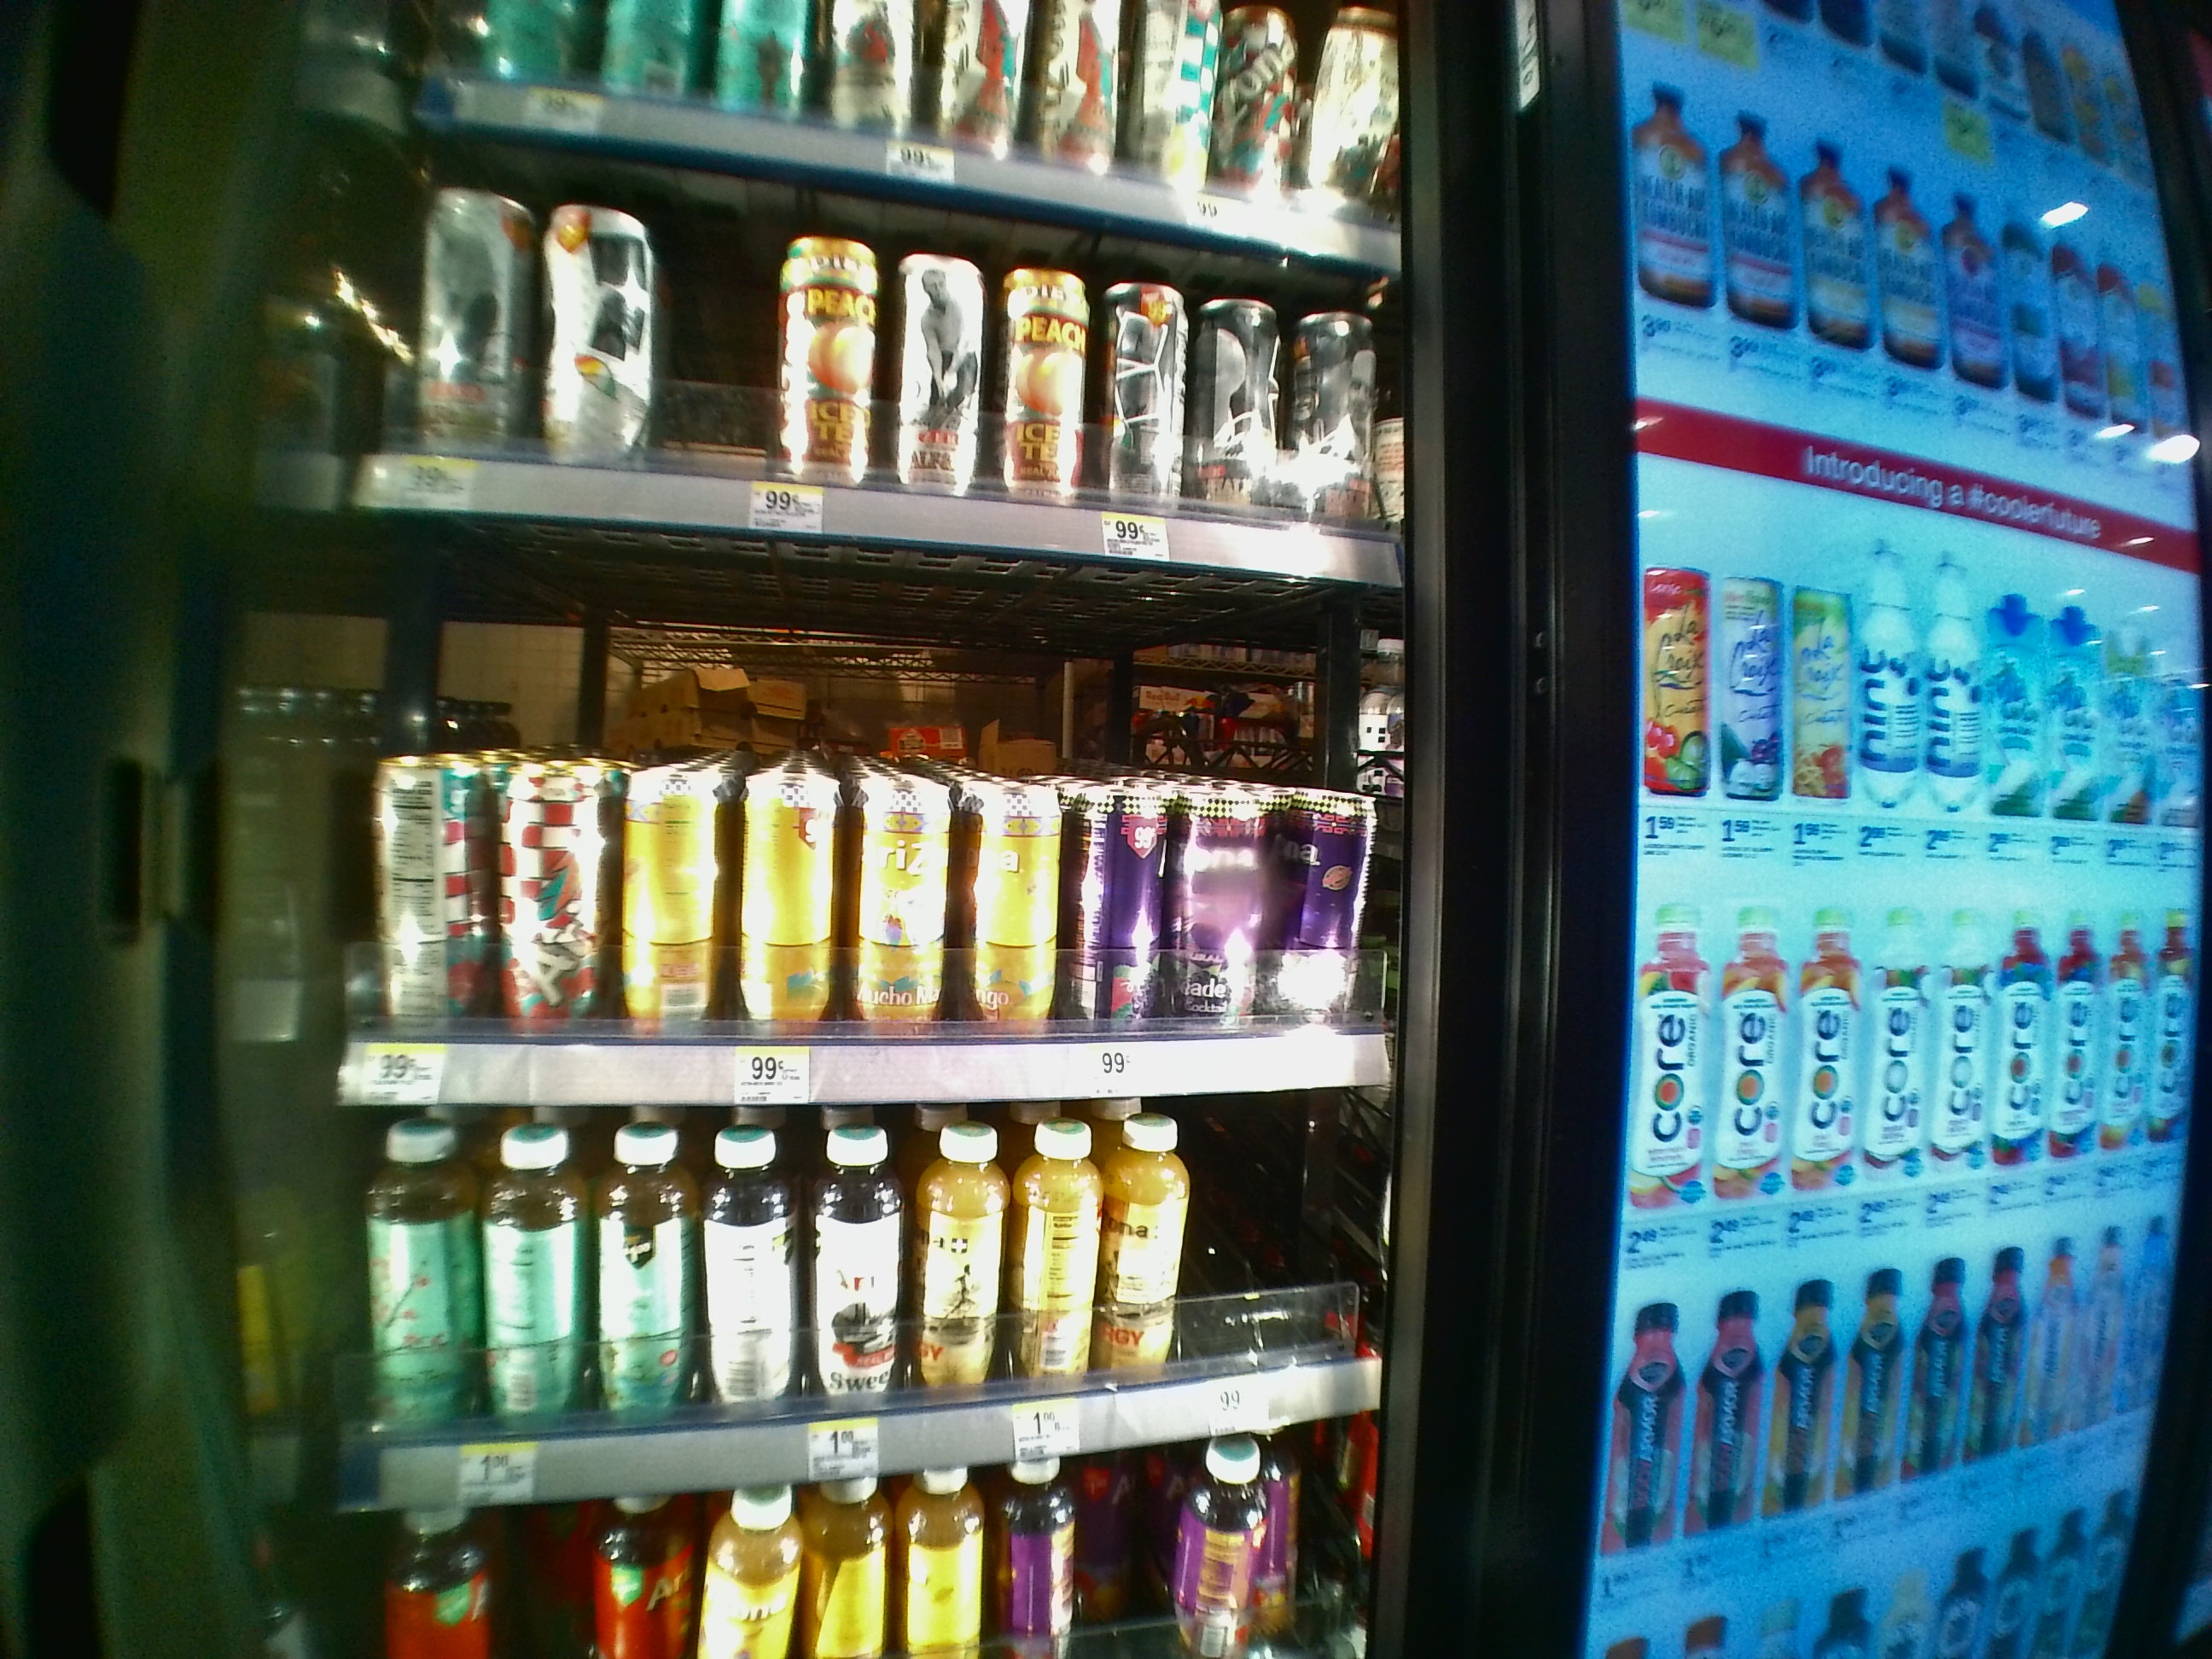shelf: (334, 516, 1406, 1098)
